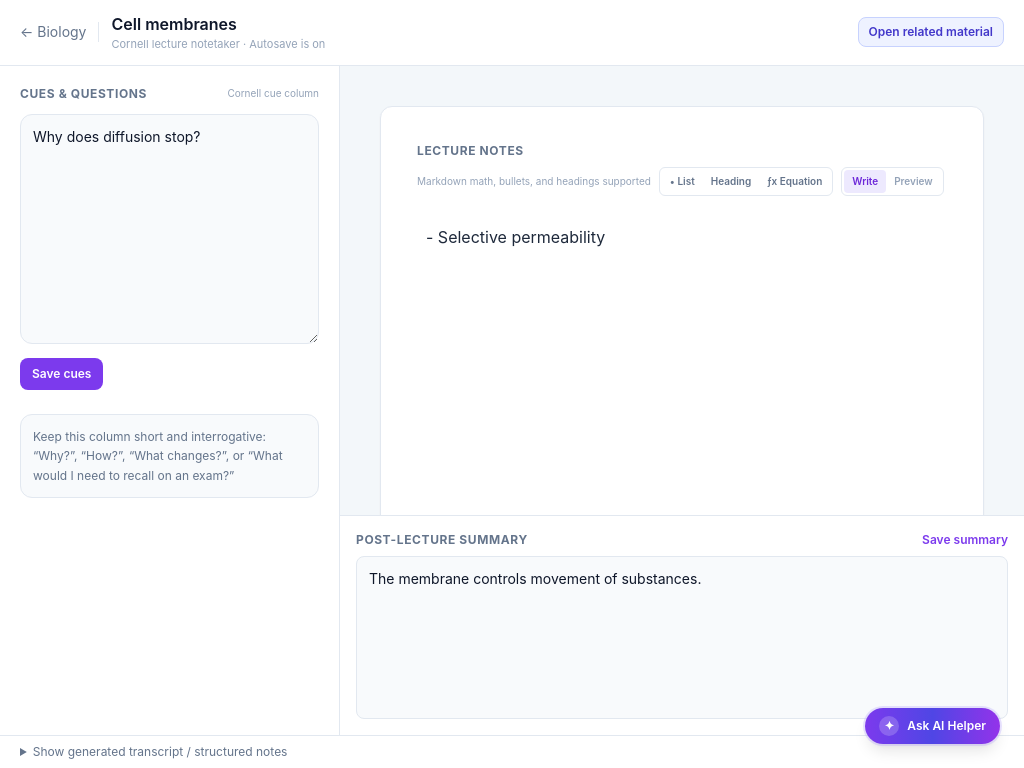
LectureNotetakerPage › offers formatting controls that insert Markdown bullets and math into lecture notes
The width and height of the screenshot is (1024, 768).
Step 1. Replace the text in the text box showing "- Selective permeability" below "Lecture notes" with "x^2 + y^2 = r^2" → (682,422), box [417,212,947,632]
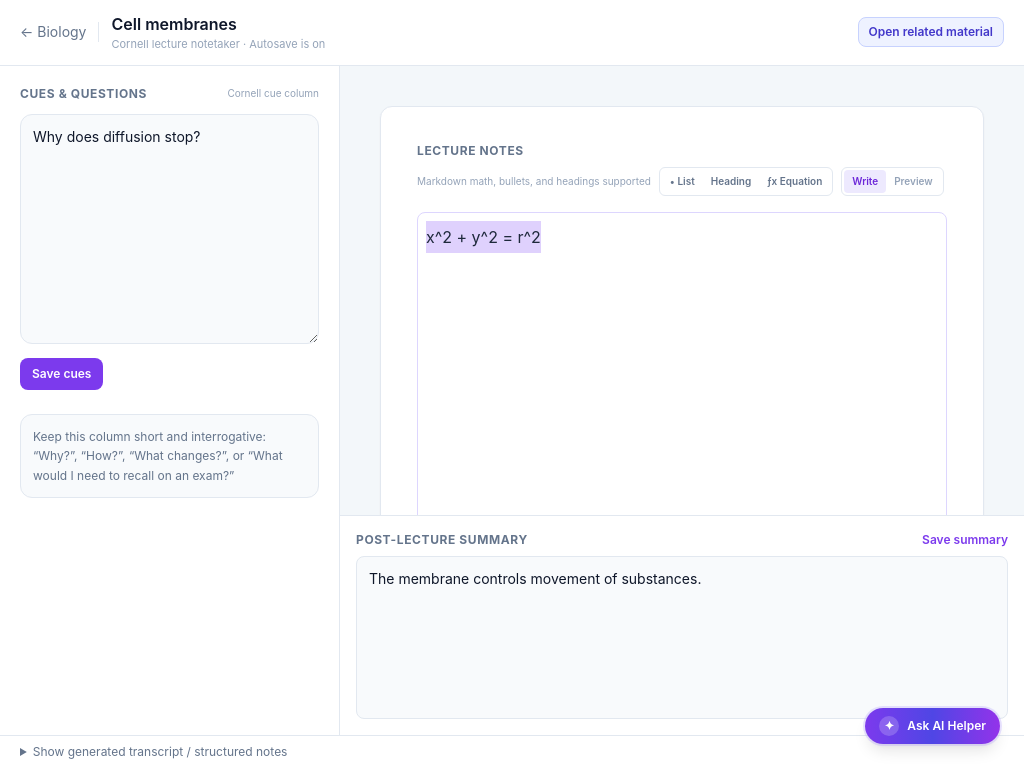
Step 2. Click the button with aria-label "Insert equation" → (795,181), box [759,170,830,192]
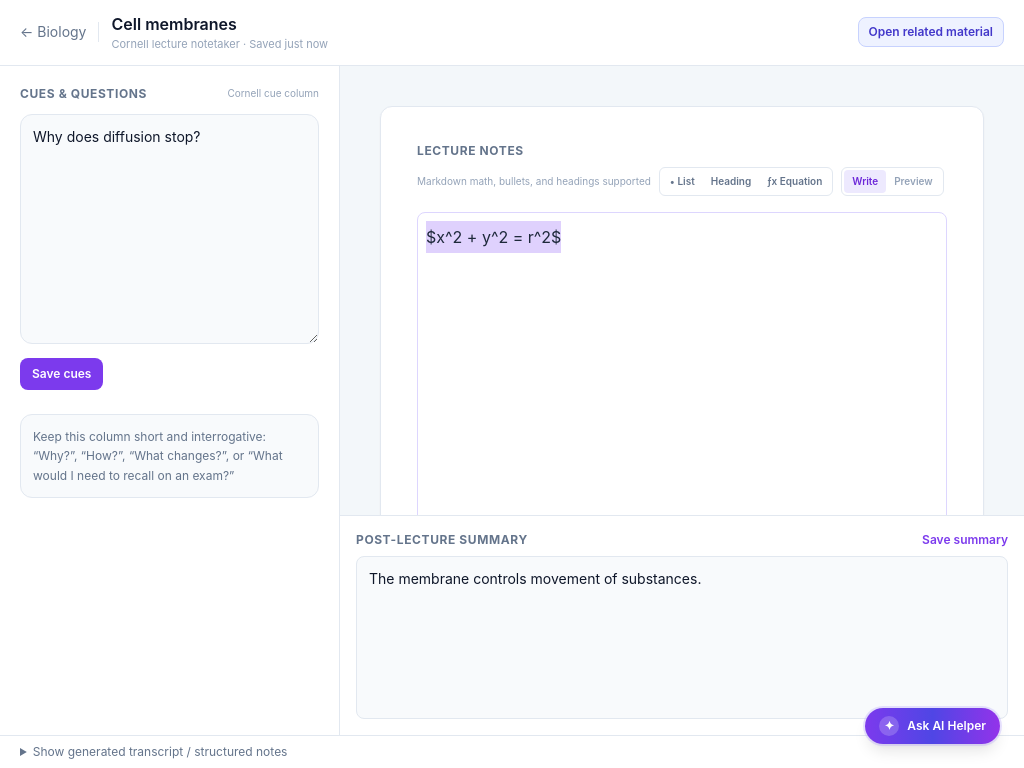
Expected: the text box showing "- Selective permeability" below "Lecture notes" holds "$x^2 + y^2 = r^2$", [417,212,947,515]
Step 3. Click the button with aria-label "Insert bullet list" → (682,181), box [662,170,703,192]
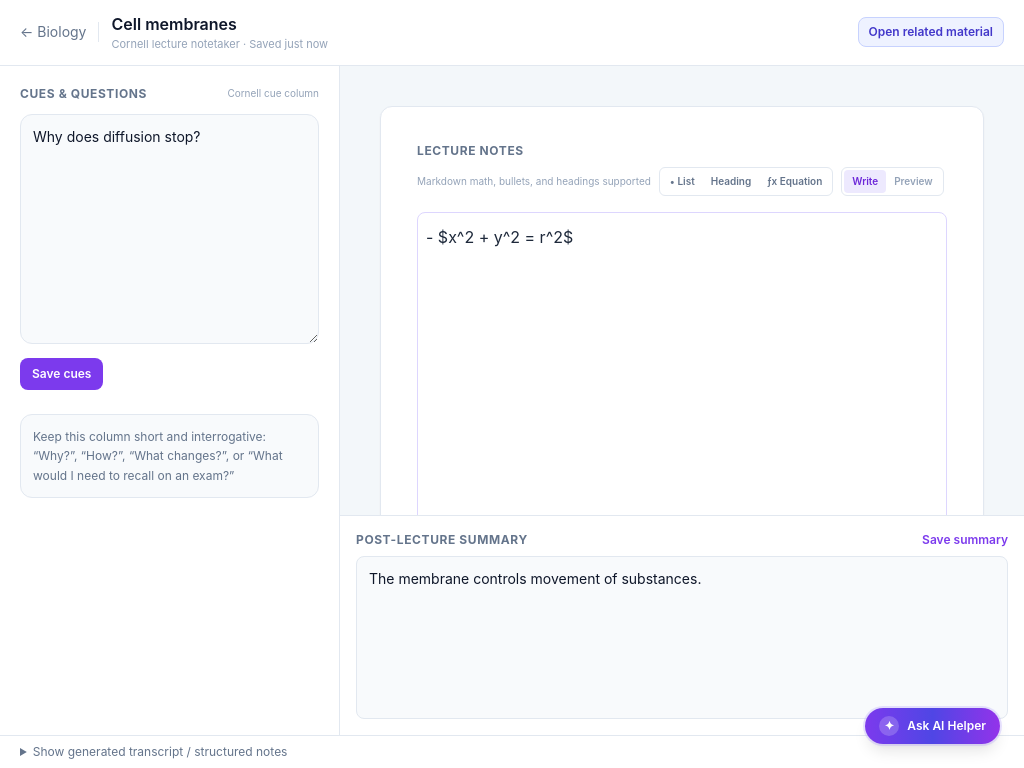
Expected: the text box showing "- Selective permeability" below "Lecture notes" holds "- $x^2 + y^2 = r^2$", [417,212,947,515]
